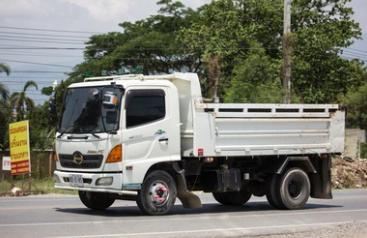vehicle: (51, 73, 345, 215)
